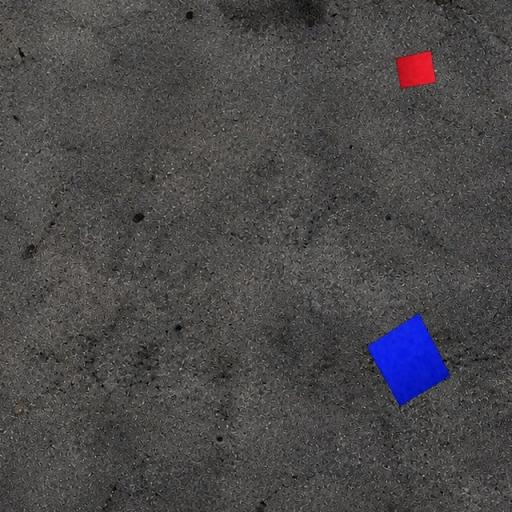BLUE_SQUARE: (366, 312, 451, 407)
RED_SQUARE: (395, 50, 437, 88)
